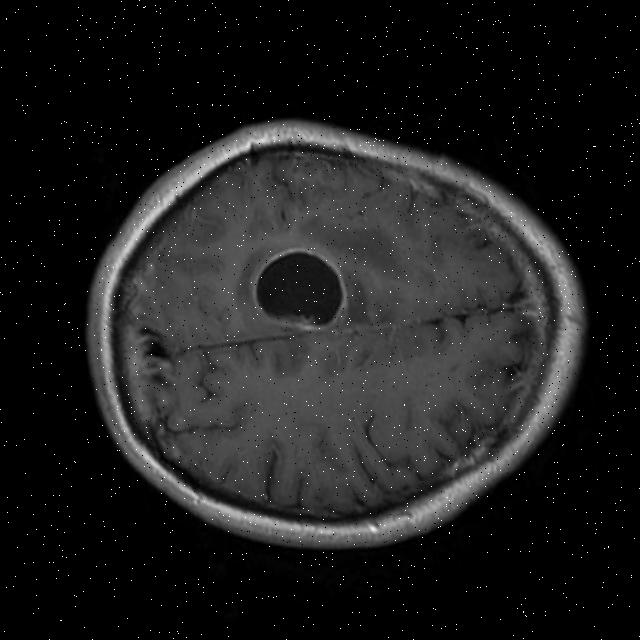Glioma: (239, 233, 356, 351)
